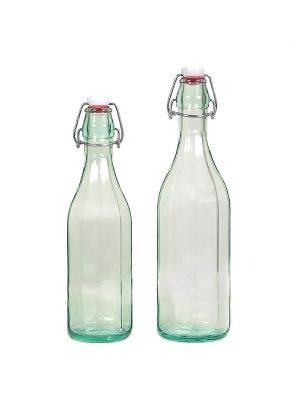container: (157, 65, 232, 343), (65, 97, 136, 344)
